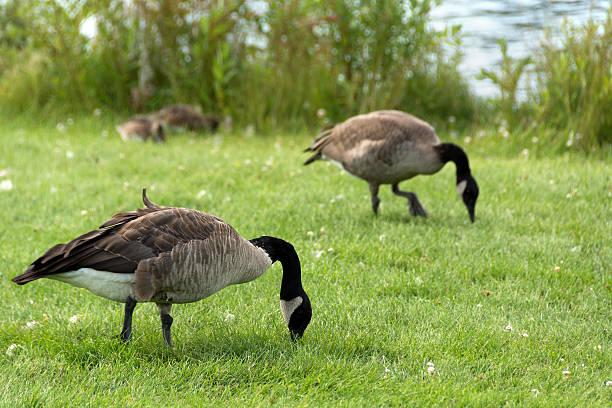Canadian-Goose: (15, 200, 309, 352), (305, 108, 479, 224)
